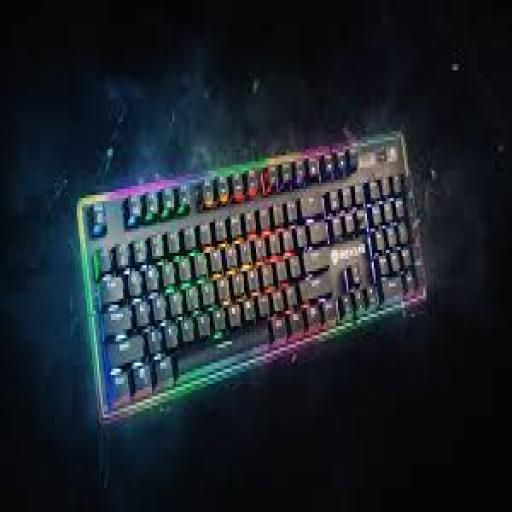keyboard: (79, 134, 425, 418)
